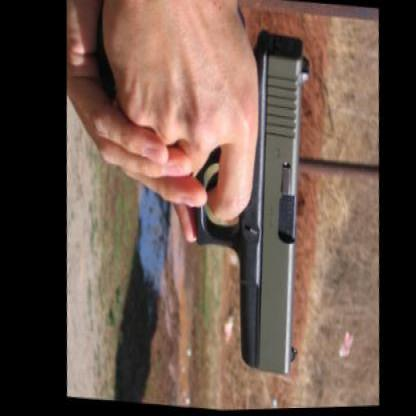pistol: (72, 0, 329, 385)
